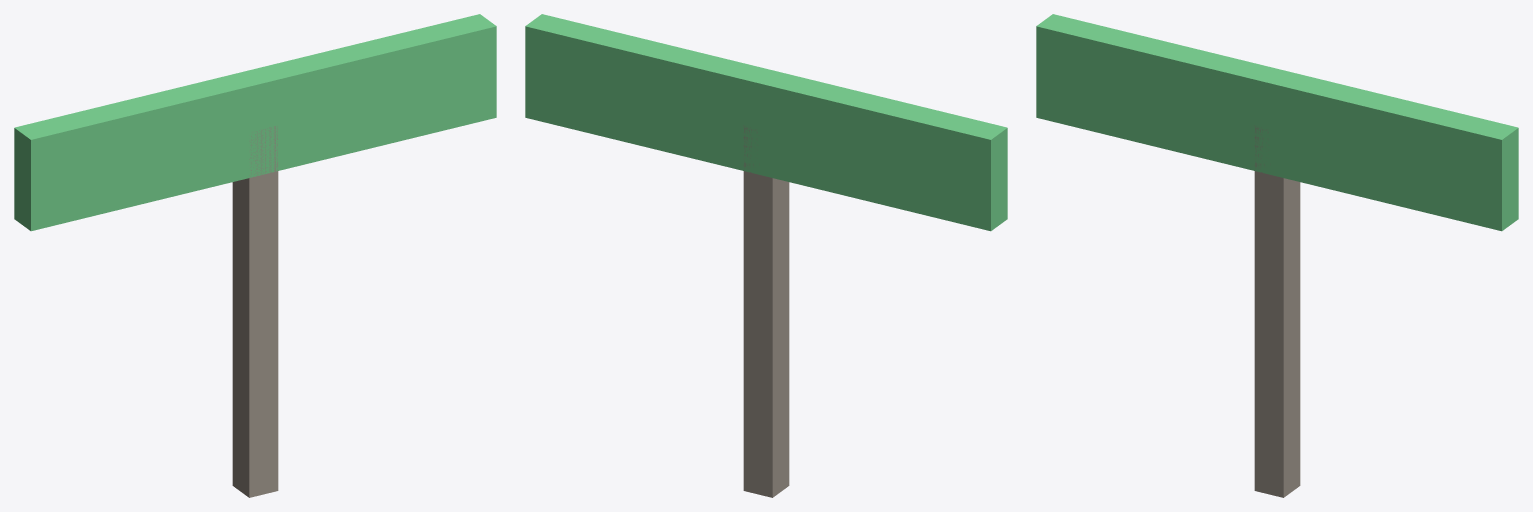
The model's file is guide-sign.gltf.
The picture shows the model from 3 angles, left to right: view 1: azimuth 30°, elevation 25°; view 2: azimuth 150°, elevation 25°; view 3: azimuth 330°, elevation 25°; orthographic projection.
Parts seen in each view (by area): view 1: SignBoard, Post; view 2: SignBoard, Post; view 3: SignBoard, Post.
Boxes of the visible parts, <box> form: SignBoard: <box>14,14,496,231</box>; Post: <box>232,126,278,497</box>; SignBoard: <box>525,14,1007,231</box>; Post: <box>743,125,789,497</box>; SignBoard: <box>1036,14,1518,231</box>; Post: <box>1254,125,1300,497</box>.
Size of the model in its own units: 1.6 by 1.35 by 0.1.
